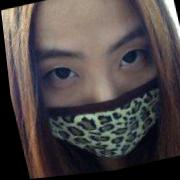WRONG: (22, 15, 180, 176)
